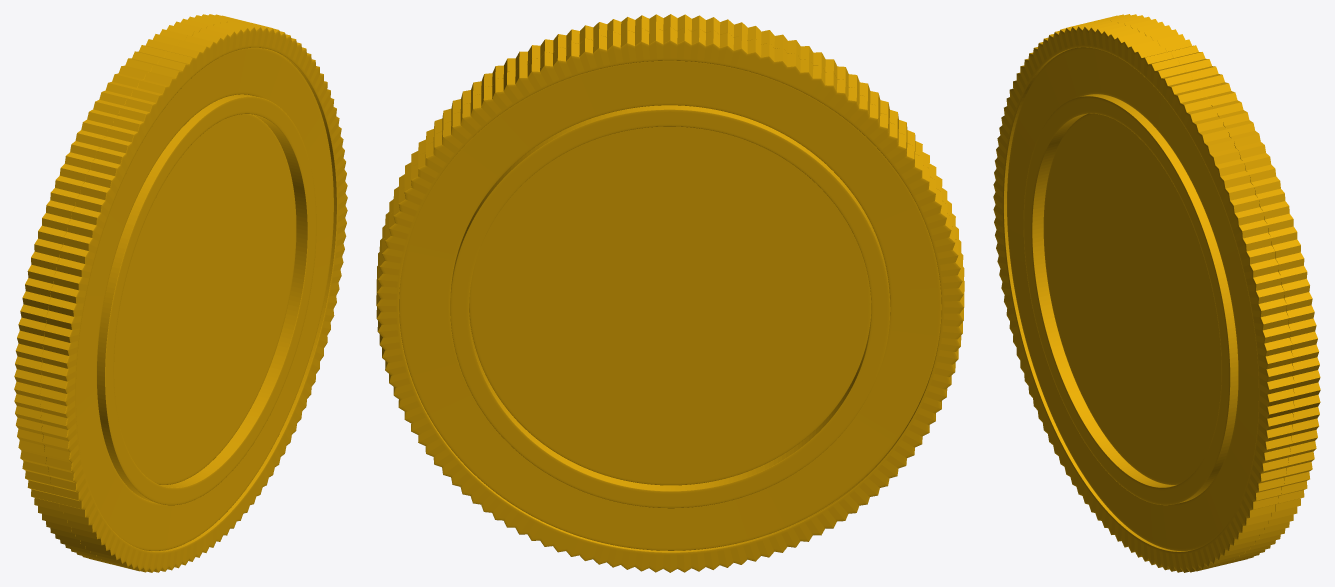
The model's file is coin.fbx.
3 views of the same model, side by side, from view 1: azimuth 30°, elevation 25°; view 2: azimuth 150°, elevation 25°; view 3: azimuth 270°, elevation 25° (orthographic). The views are drawn at different scales.
Parts seen in each view (by area): view 1: Cylinder; view 2: Cylinder; view 3: Cylinder.
Part boxes in pixels (x1=…): Cylinder: x1=14, y1=14, x2=347, y2=572; Cylinder: x1=376, y1=14, x2=964, y2=572; Cylinder: x1=993, y1=14, x2=1320, y2=572.
Size of the model in its own units: 184 by 200 by 117.
